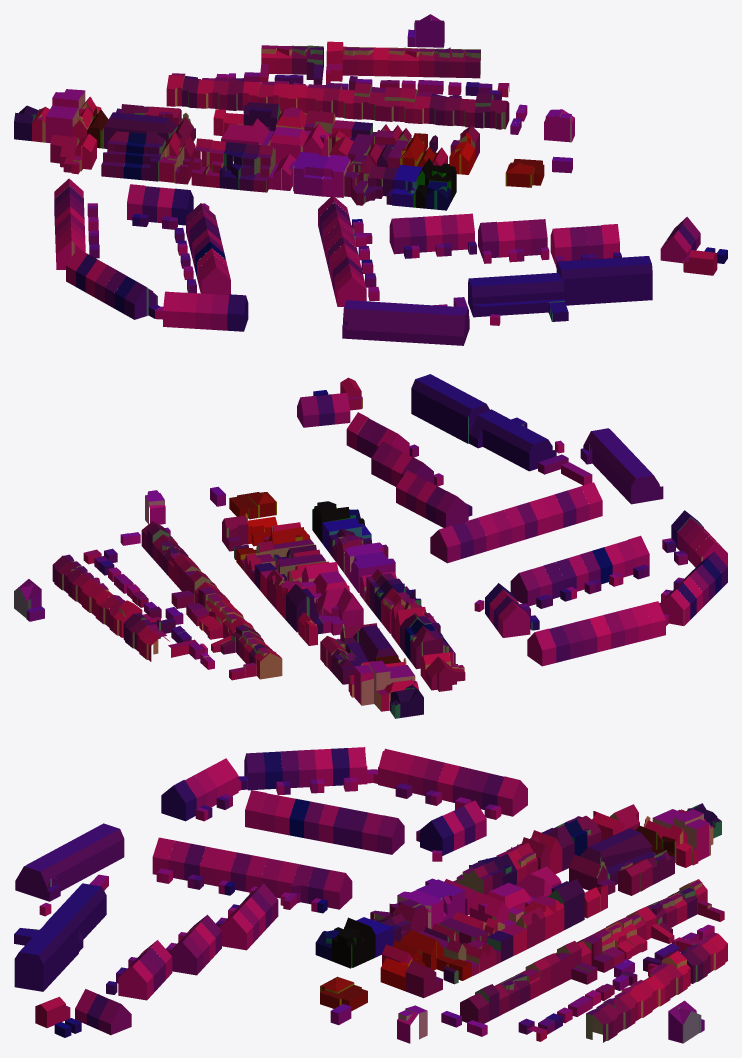
Rendered from buildings_12_11.glb.
The picture shows the model from 3 angles, top to bottom: view 1: azimuth 30°, elevation 25°; view 2: azimuth 150°, elevation 25°; view 3: azimuth 270°, elevation 25°; orthographic projection. The views are drawn at different scales.
Parts seen in each view (by area): view 1: buildings_12_11; view 2: buildings_12_11; view 3: buildings_12_11.
Boxes of the visible parts, box(x1,y1,x2,y2) form: buildings_12_11: box(14, 14, 727, 345); buildings_12_11: box(14, 374, 727, 718); buildings_12_11: box(14, 747, 727, 1043).
Bounding box in the file's own units: 194 × 12.96 × 215.
